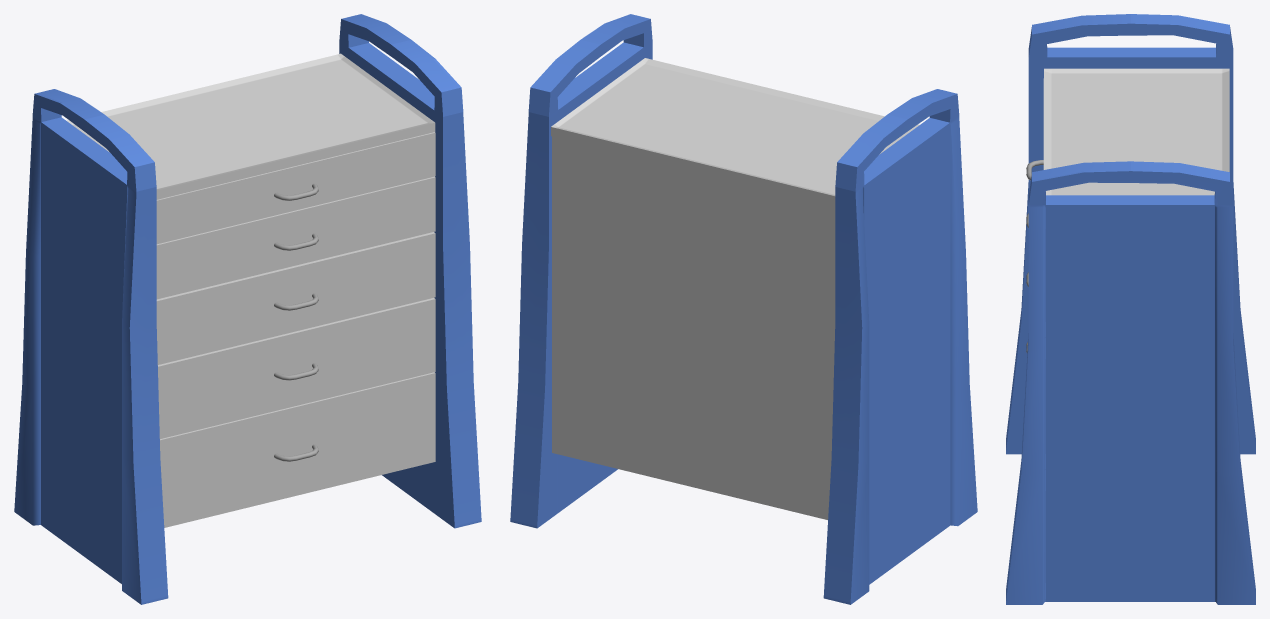
Rendered from crashCart.fbx.
The picture shows the model from 3 angles, left to right: view 1: azimuth 30°, elevation 25°; view 2: azimuth 150°, elevation 25°; view 3: azimuth 270°, elevation 25°; orthographic projection.
Visible parts, largest first — view 1: pCube1, pCube2, pCube13, pCube14, pCube12, pCube10, pCube9, pCylinder7; view 2: pCube15, pCube1, pCube2, pCube14; view 3: pCube14, pCube2, pCube1.
Boxes of the visible parts, x1,y1,x2,y2 form: pCube1: (14, 89, 168, 604); pCube2: (66, 53, 435, 199); pCube13: (160, 372, 435, 527); pCube14: (339, 14, 481, 528); pCube12: (158, 298, 435, 438); pCube10: (156, 232, 435, 364); pCube9: (156, 176, 435, 299); pCylinder7: (156, 132, 435, 244); pCube15: (552, 136, 835, 519); pCube1: (823, 89, 977, 604); pCube2: (551, 58, 919, 205); pCube14: (510, 14, 652, 528); pCube14: (1006, 161, 1255, 604); pCube2: (1044, 68, 1229, 195); pCube1: (1006, 14, 1255, 454).
Bounding box in the file's own units: 5.76 × 7.08 × 3.72.
